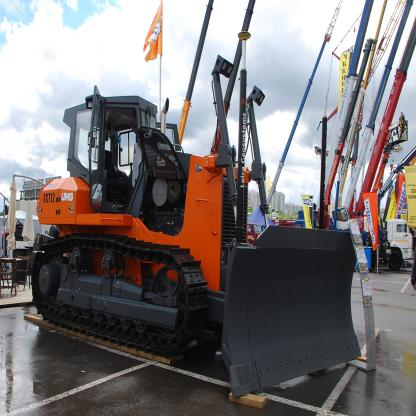bull_dozer/loader/grader: (32, 83, 372, 407)
